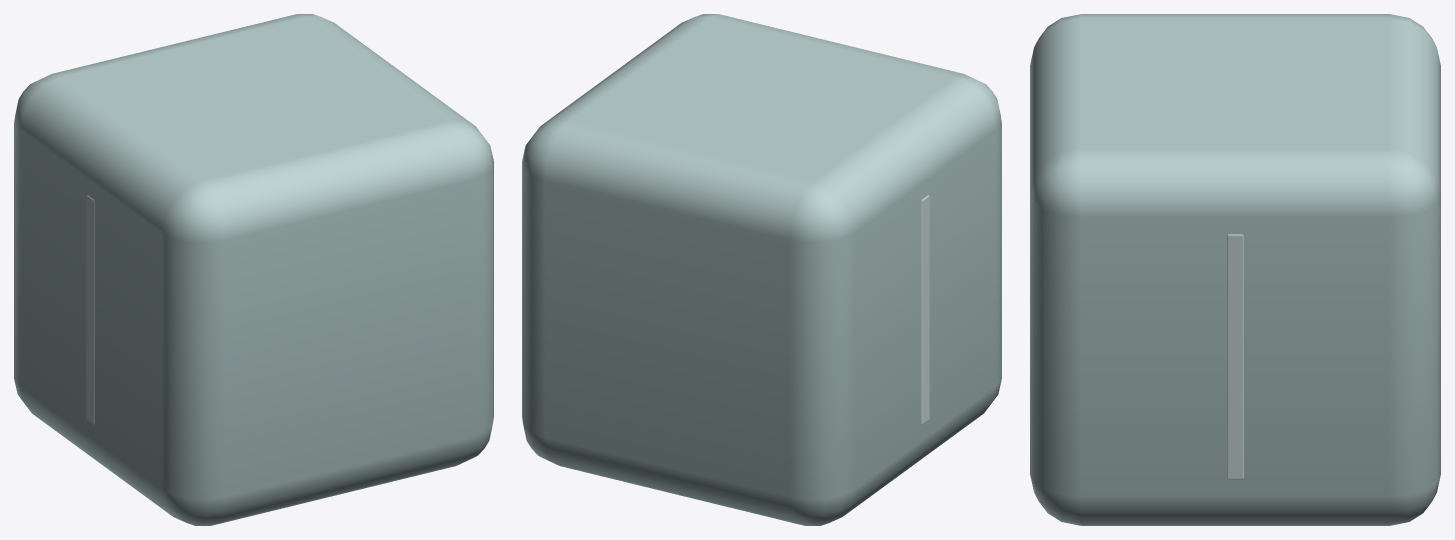
3 views of the same model, side by side, from view 1: azimuth 30°, elevation 25°; view 2: azimuth 150°, elevation 25°; view 3: azimuth 270°, elevation 25° (orthographic). The views are drawn at different scales.
Parts seen in each view (by area): view 1: cube; view 2: cube; view 3: cube.
Part boxes in pixels (x1,y1,x2,y2): cube: (14, 14, 493, 525); cube: (522, 14, 1001, 525); cube: (1030, 14, 1440, 525).
Size of the model in its own units: 2.42 by 2.4 by 2.4.
